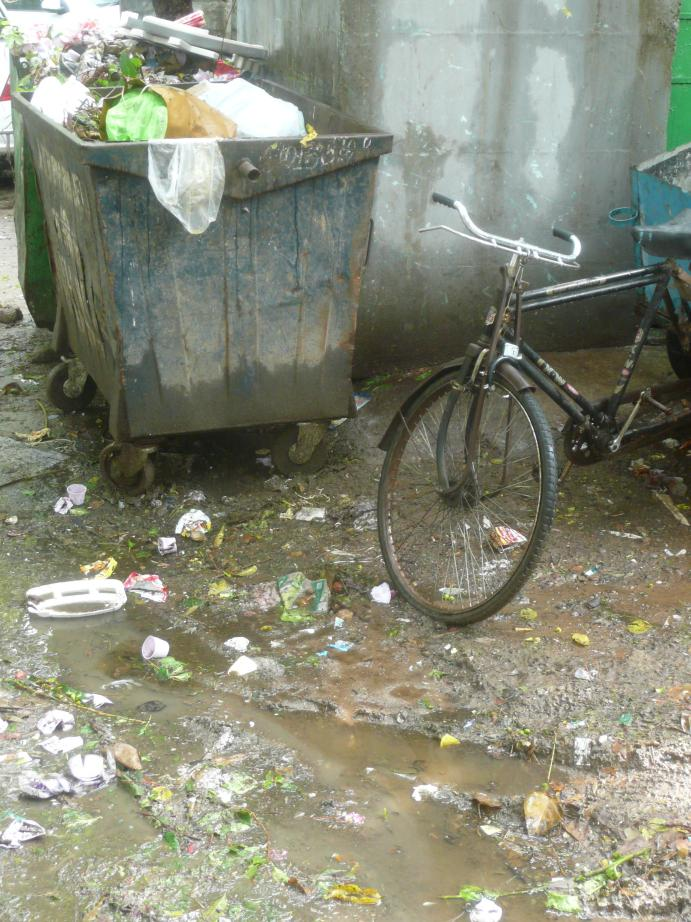Container: (12, 99, 391, 491)
Garbage: (14, 16, 311, 142), (142, 139, 263, 220), (109, 98, 185, 143), (29, 70, 73, 114), (287, 140, 289, 141)
